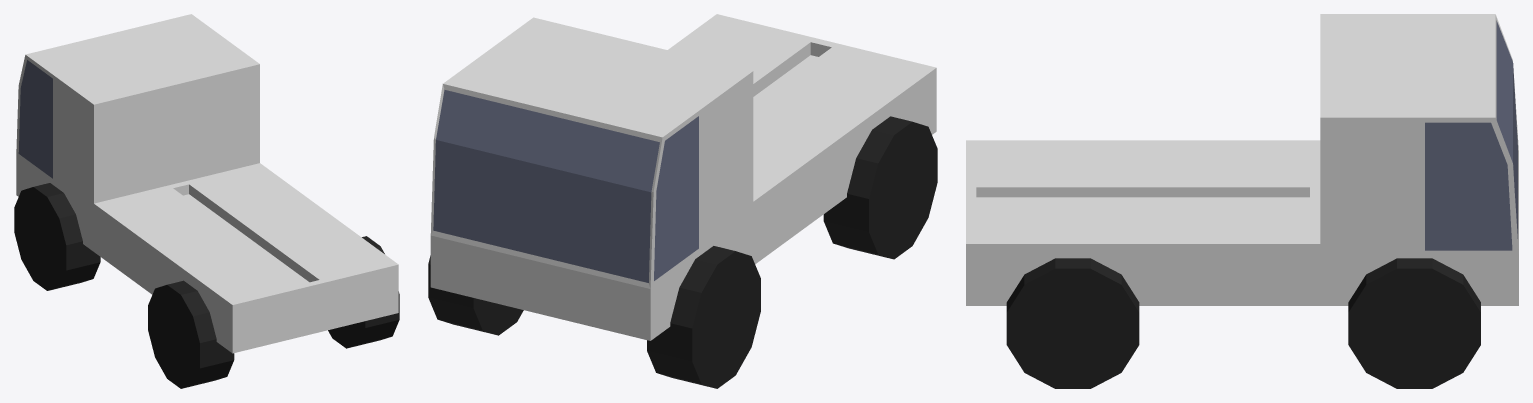
File: che车.fbx
3 renders of one model, left to right at view 1: azimuth 30°, elevation 25°; view 2: azimuth 150°, elevation 25°; view 3: azimuth 270°, elevation 25°, orthographic. The views are drawn at different scales.
Visible parts, largest first — view 1: 柱体.003; view 2: 柱体.003; view 3: 柱体.003.
Boxes of the visible parts, x1,y1,x2,y2 form: 柱体.003: (14, 14, 399, 388); 柱体.003: (428, 14, 937, 388); 柱体.003: (966, 14, 1518, 388).
Bounding box in the file's own units: 13.5 × 13.2 × 25.35.
